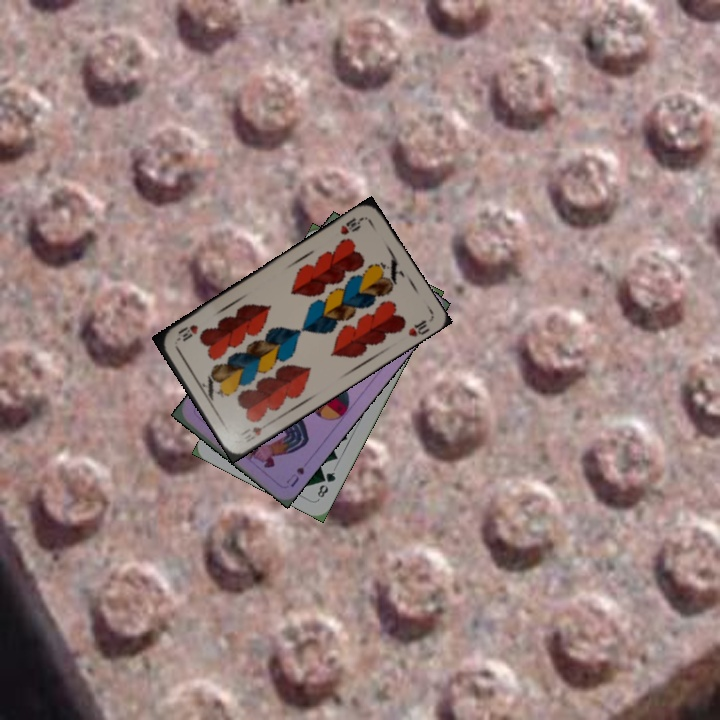G8: (313, 468, 338, 501)
H10: (336, 213, 366, 237), (236, 422, 265, 445)
SU: (282, 463, 307, 490)
